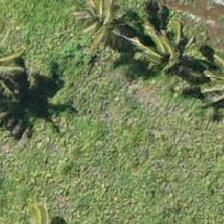coconut_tree: (129, 6, 219, 96), (59, 0, 149, 61)
